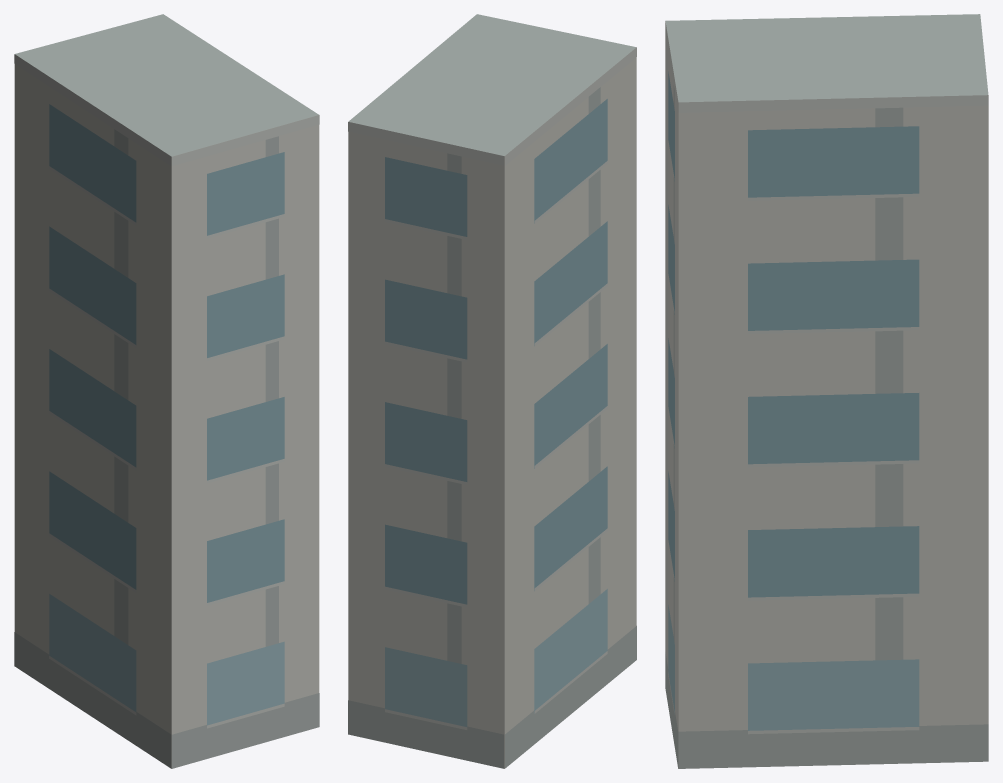
Rendered from survey-upis-32634691.glb.
3 renders of one model, left to right at view 1: azimuth 30°, elevation 25°; view 2: azimuth 150°, elevation 25°; view 3: azimuth 270°, elevation 25°, orthographic. The views are drawn at different scales.
Visible parts, largest first — view 1: survey-upis-32634691.tmp; view 2: survey-upis-32634691.tmp; view 3: survey-upis-32634691.tmp.
Boxes of the visible parts, x1,y1,x2,y2 form: survey-upis-32634691.tmp: [14, 14, 319, 768]; survey-upis-32634691.tmp: [348, 14, 636, 768]; survey-upis-32634691.tmp: [665, 14, 988, 768].
Bounding box in the file's own units: 4.35 × 15.25 × 6.71.
